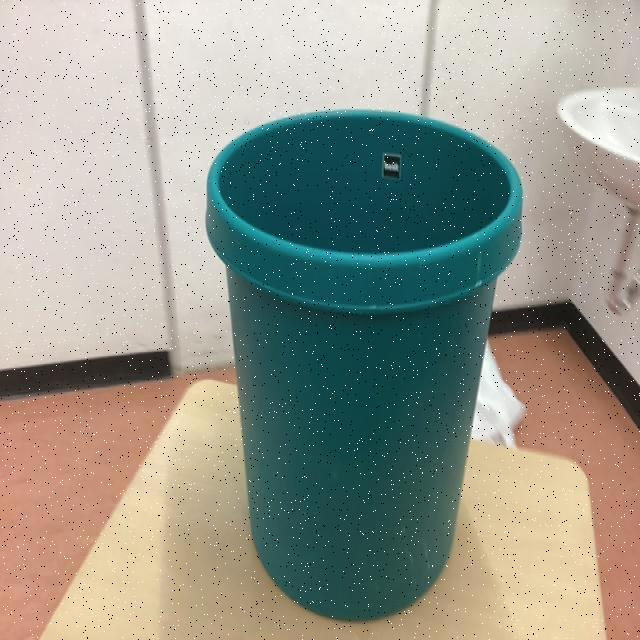garbage container: (188, 84, 532, 621)
